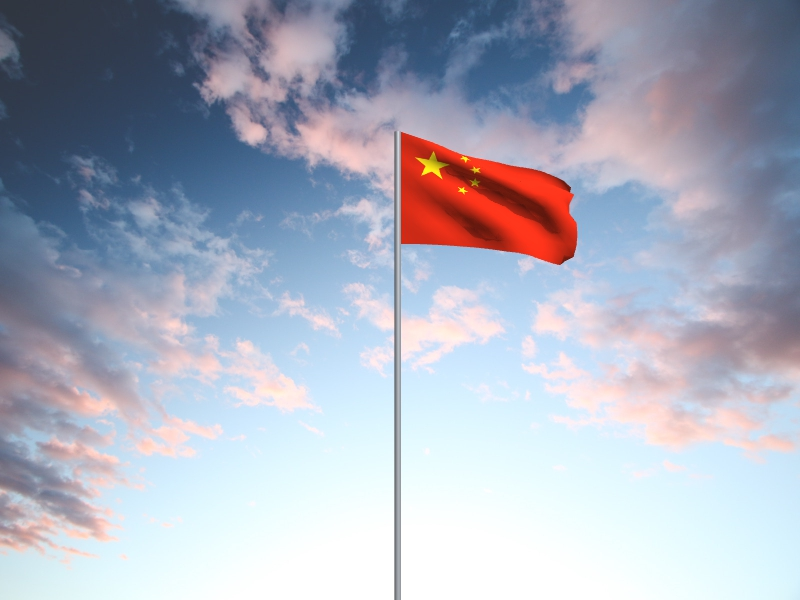cn: (402, 132, 579, 267)
